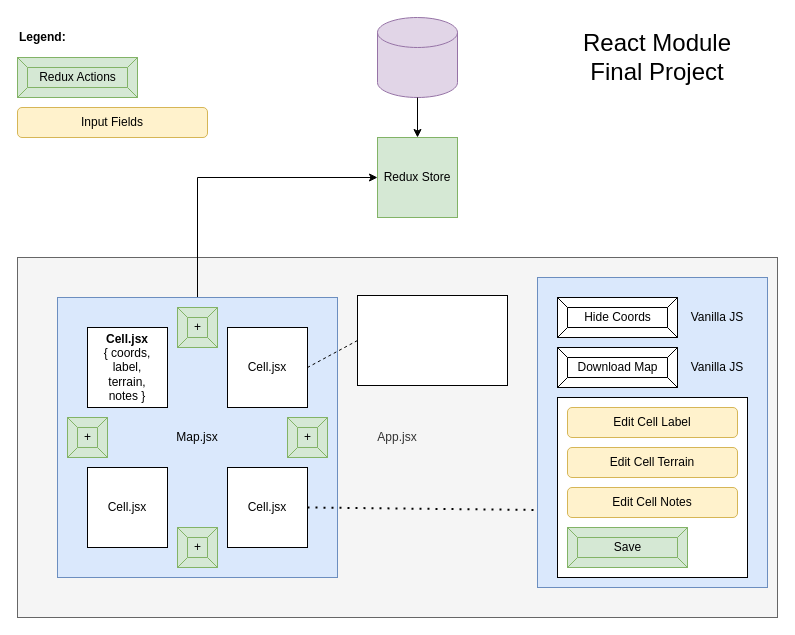
Some shapes in this 795 by 635 pixel diagram are drawn without their labels. The centre of each missing label's shape, as x and y in pixels:
Data Source: mapData,js: the point at 417,57
NotesOverlay.jsx { activeCell, mouse position, Cell Notes }: the point at 432,340
